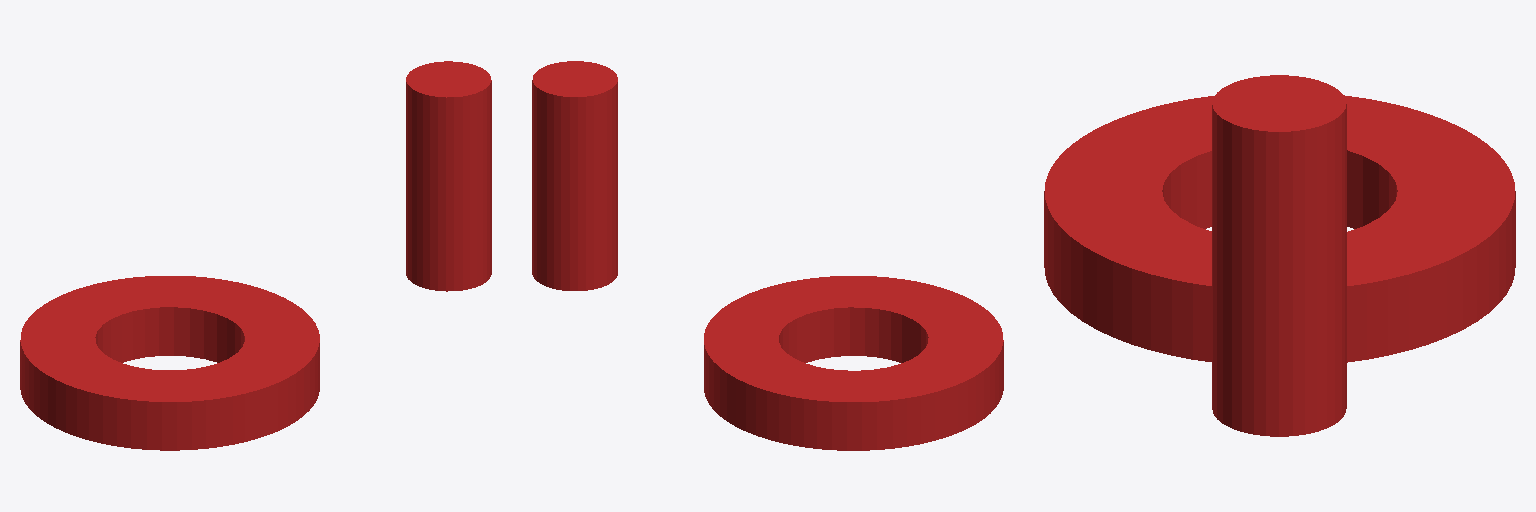
URDF robot description (disk1):
<?xml version="1.0" ?>
<robot name="disk1" xmlns:xacro="http://ros.org/wiki/xacro">
  <material name="red">
    <color rgba="0.8 0.2 0.2 1"/>
  </material>
  <link name="base_link">
    <visual>
      <origin rpy="0 0 0" xyz="0 0 0"/>
      <geometry>
        <mesh filename="package://tower_of_hanoi/disk1.stl" scale="0.1 0.1 0.1"/>
      </geometry>
      <material name="red"/>
    </visual>
    <collision>
      <origin rpy="0 0 0" xyz="0 0 0"/>
      <geometry>
        <mesh filename="package://tower_of_hanoi/disk1_col2.stl" scale="0.1 0.1 0.1"/>
      </geometry>
    </collision>
    <inertial>
      <!-- CENTER OF MASS -->
      <origin rpy="0 0 0" xyz="0 0 0"/>
      <mass value="0.01"/>
      <!--Thick-walled cylindrical tube with open ends inertia: I_x = I_y = 1/12*m(3*(r1^2+r2^2)+h^2), I_z = 0.5*m(r1^2+r2^2) -->
      <!-- r1 = 0.035, r2 = 0.07, h = 0.025 -->
      <inertia ixx="1.5833333333333336e-05" ixy="0" ixz="0" iyy="1.5833333333333336e-05" iyz="0" izz="3.0625000000000006e-05"/>
    </inertial>
  </link>
  <joint name="tip_joint" type="fixed">
    <!-- <origin rpy="0 0 0" xyz="0.08 0 0.06125"/> -->
    <origin rpy="0 0 0" xyz="0.15 0 0.06125"/>
    <parent link="base_link"/>
    <child link="tip"/>
  </joint>
  <link name="tip">
    <visual>
      <origin rpy="0 0 0" xyz="0 0 0"/>
      <geometry>
        <cylinder length="0.1" radius="0.02"/>
      </geometry>
      <material name="red"/>
    </visual>
    <collision>
      <origin rpy="0 0 0" xyz="0 0 0"/>
      <geometry>
        <cylinder length="0.1" radius="0.02"/>
      </geometry>
    </collision>
    <!-- dummy inertial params -->
    <inertial>
      <origin rpy="0 0 0" xyz="0 0 0"/>
      <mass value="1e-8"/>
      <inertia ixx="1e-12" ixy="0" ixz="0" iyy="1e-12" iyz="0" izz="1e-12"/>
    </inertial>
  </link>
</robot>

--- Facts derived from the render (not from the file) ---
3 views of the same robot in one strip: view 1: azimuth 30°, elevation 25°; view 2: azimuth 150°, elevation 25°; view 3: azimuth 270°, elevation 25° (orthographic).
Robot: disk1 — 2 links, 1 joints (1 fixed); root link base_link; default pose: every joint at zero.
Links seen in each view (by area): view 1: base_link, tip; view 2: base_link, tip; view 3: base_link, tip.
Boxes of the visible links, left/top/right/bottom form: base_link: left=20, top=276, right=319, bottom=450; tip: left=406, top=61, right=491, bottom=291; base_link: left=704, top=276, right=1003, bottom=450; tip: left=532, top=61, right=617, bottom=290; base_link: left=1044, top=95, right=1515, bottom=362; tip: left=1212, top=75, right=1346, bottom=436.
Bounding box of the posed robot: 0.2402 × 0.14 × 0.1238 m (x, y, z).
1 mesh visuals loaded from 1 distinct referenced files (1 binary STL).